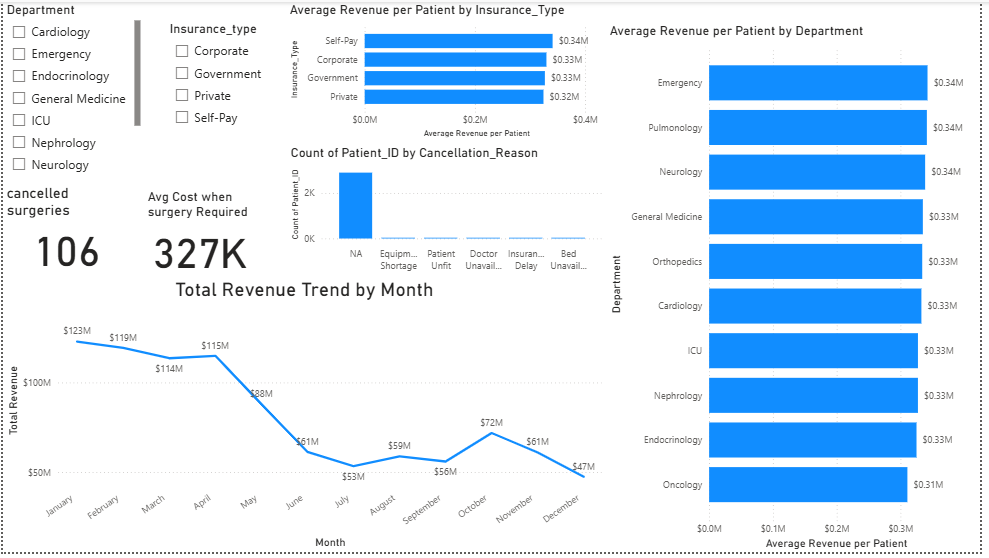

This screenshot's page, from the dashboard's own definition file:
{"tool":"powerbi","page":{"name":"Revenue Analysis","canvas":[1280,720],"ordinal":3},"visuals":[{"type":"lineChart","title":"Total Revenue Trend by Month","fields":{"Category":["Healthcare_Master.Admission_Date.Variation.Date Hierarchy.Month"],"Y":["Healthcare_Master.Total Revenue"]},"box":[0,361.3,789.4,358.7],"z":0},{"type":"clusteredBarChart","fields":{"Category":["Healthcare_Master.Insurance_Type"],"Y":["Healthcare_Master.Average Revenue per Patient"]},"box":[370.5,0,418.9,182],"z":1000},{"type":"clusteredBarChart","fields":{"Category":["Healthcare_Master.Department"],"Y":["Healthcare_Master.Average Revenue per Patient"]},"box":[789.1,27.1,490.9,693.5],"z":2000},{"type":"card","title":"cancelled surgeries","fields":{"Values":["Healthcare_Master.Cancelled Surgeries"]},"box":[0,238.3,166.3,117.8],"z":3000},{"type":"card","title":"Avg Cost when surgery Required","fields":{"Values":["Healthcare_Master.Avg Cost When Surgery Required"]},"box":[184.6,244.8,146.6,116.5],"z":4000},{"type":"slicer","title":"Insurance_type","fields":{"Values":["Healthcare_Master.Insurance_Type"]},"box":[213.4,24.9,157.1,147.9],"z":5000},{"type":"slicer","title":"Department","fields":{"Values":["Healthcare_Master.Department"]},"box":[0,0,184.6,229.1],"z":6000},{"type":"clusteredColumnChart","fields":{"Category":["Healthcare_Master.Cancellation_Reason"],"Y":["CountNonNull(Healthcare_Master.Patient_ID)"]},"box":[371.8,187.7,418.3,173.4],"z":7000}]}

Visuals, with their boxes in screenshot pixels (x1, y1, x2, y2), scaled from the page's 1280x720 canvas onto the 989x558 screenshot:
"Total Revenue Trend by Month" lineChart: rect(0, 280, 610, 557)
clusteredBarChart - Healthcare_Master.Insurance_Type x Healthcare_Master.Average Revenue per Patient: rect(286, 0, 610, 141)
clusteredBarChart - Healthcare_Master.Department x Healthcare_Master.Average Revenue per Patient: rect(610, 21, 988, 557)
"cancelled surgeries" card: rect(0, 185, 128, 276)
"Avg Cost when surgery Required" card: rect(143, 190, 256, 280)
"Insurance_type" slicer: rect(165, 19, 286, 134)
"Department" slicer: rect(0, 0, 143, 178)
clusteredColumnChart - Healthcare_Master.Cancellation_Reason x CountNonNull(Healthcare_Master.Patient_ID): rect(287, 145, 610, 280)
